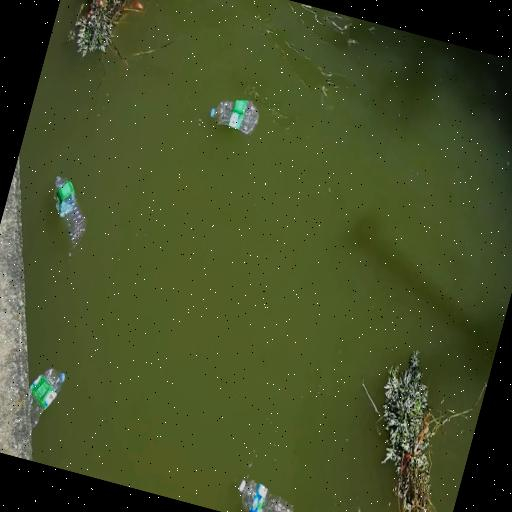plastic: (53, 176, 84, 245), (29, 369, 64, 427), (238, 480, 292, 511), (209, 100, 258, 134), (238, 480, 245, 492), (209, 108, 214, 118)
twig: (380, 350, 473, 512), (68, 0, 143, 56)
